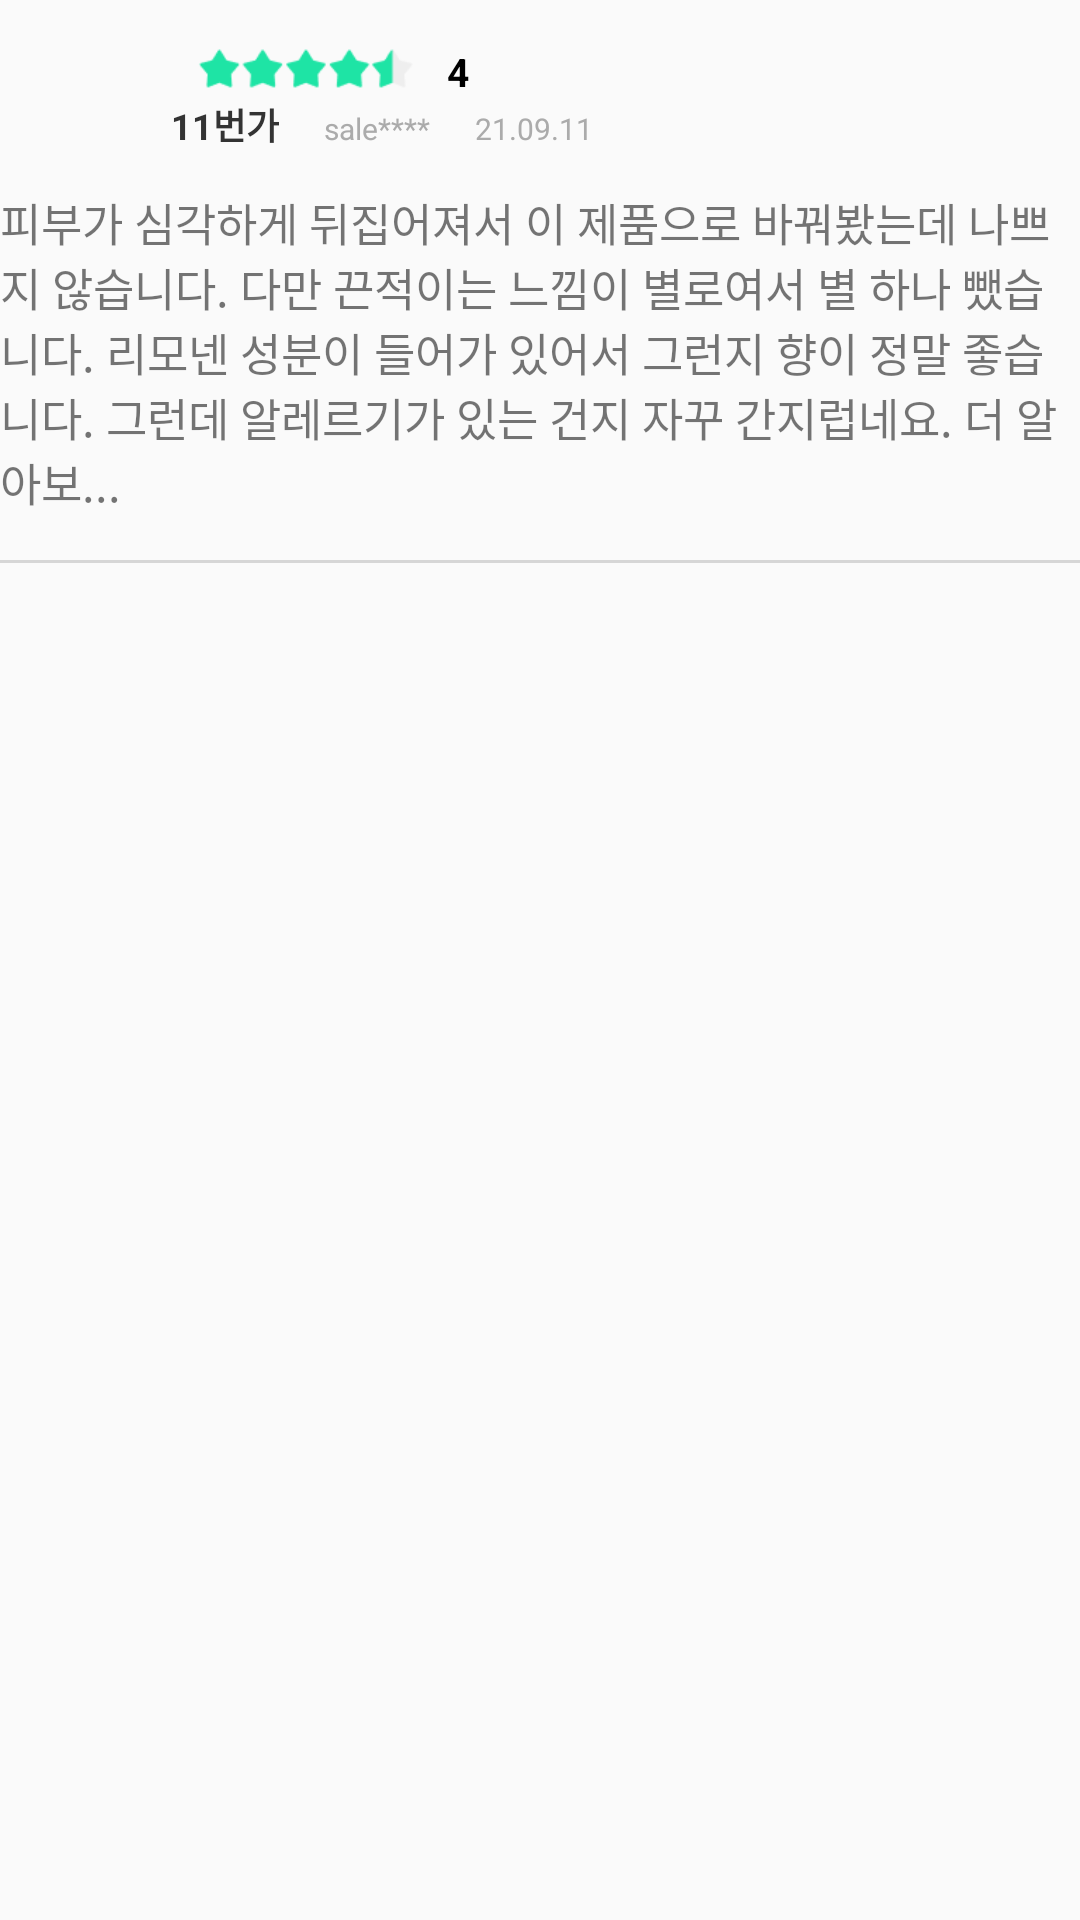

Icons on this 1080px x 1920px Android screen, each with the point to tap as (x,y):
prd details review star: (296,68)
